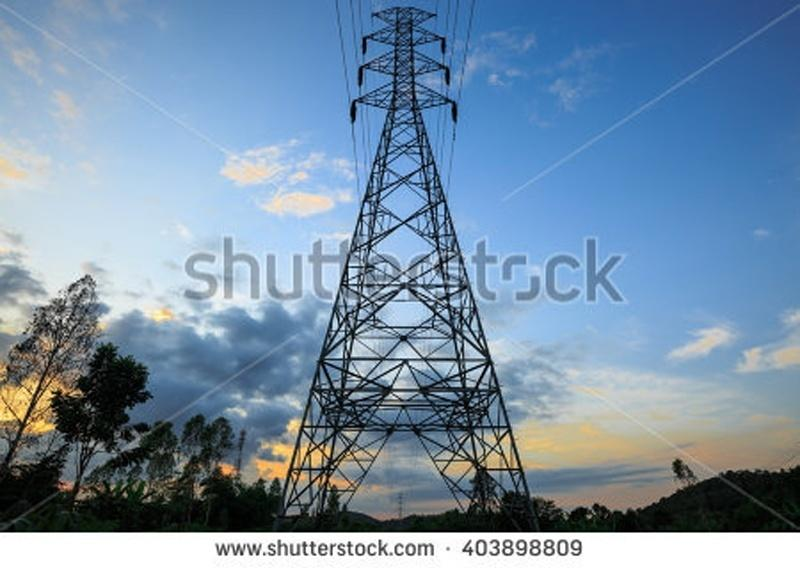power_tower: (293, 5, 520, 525)
